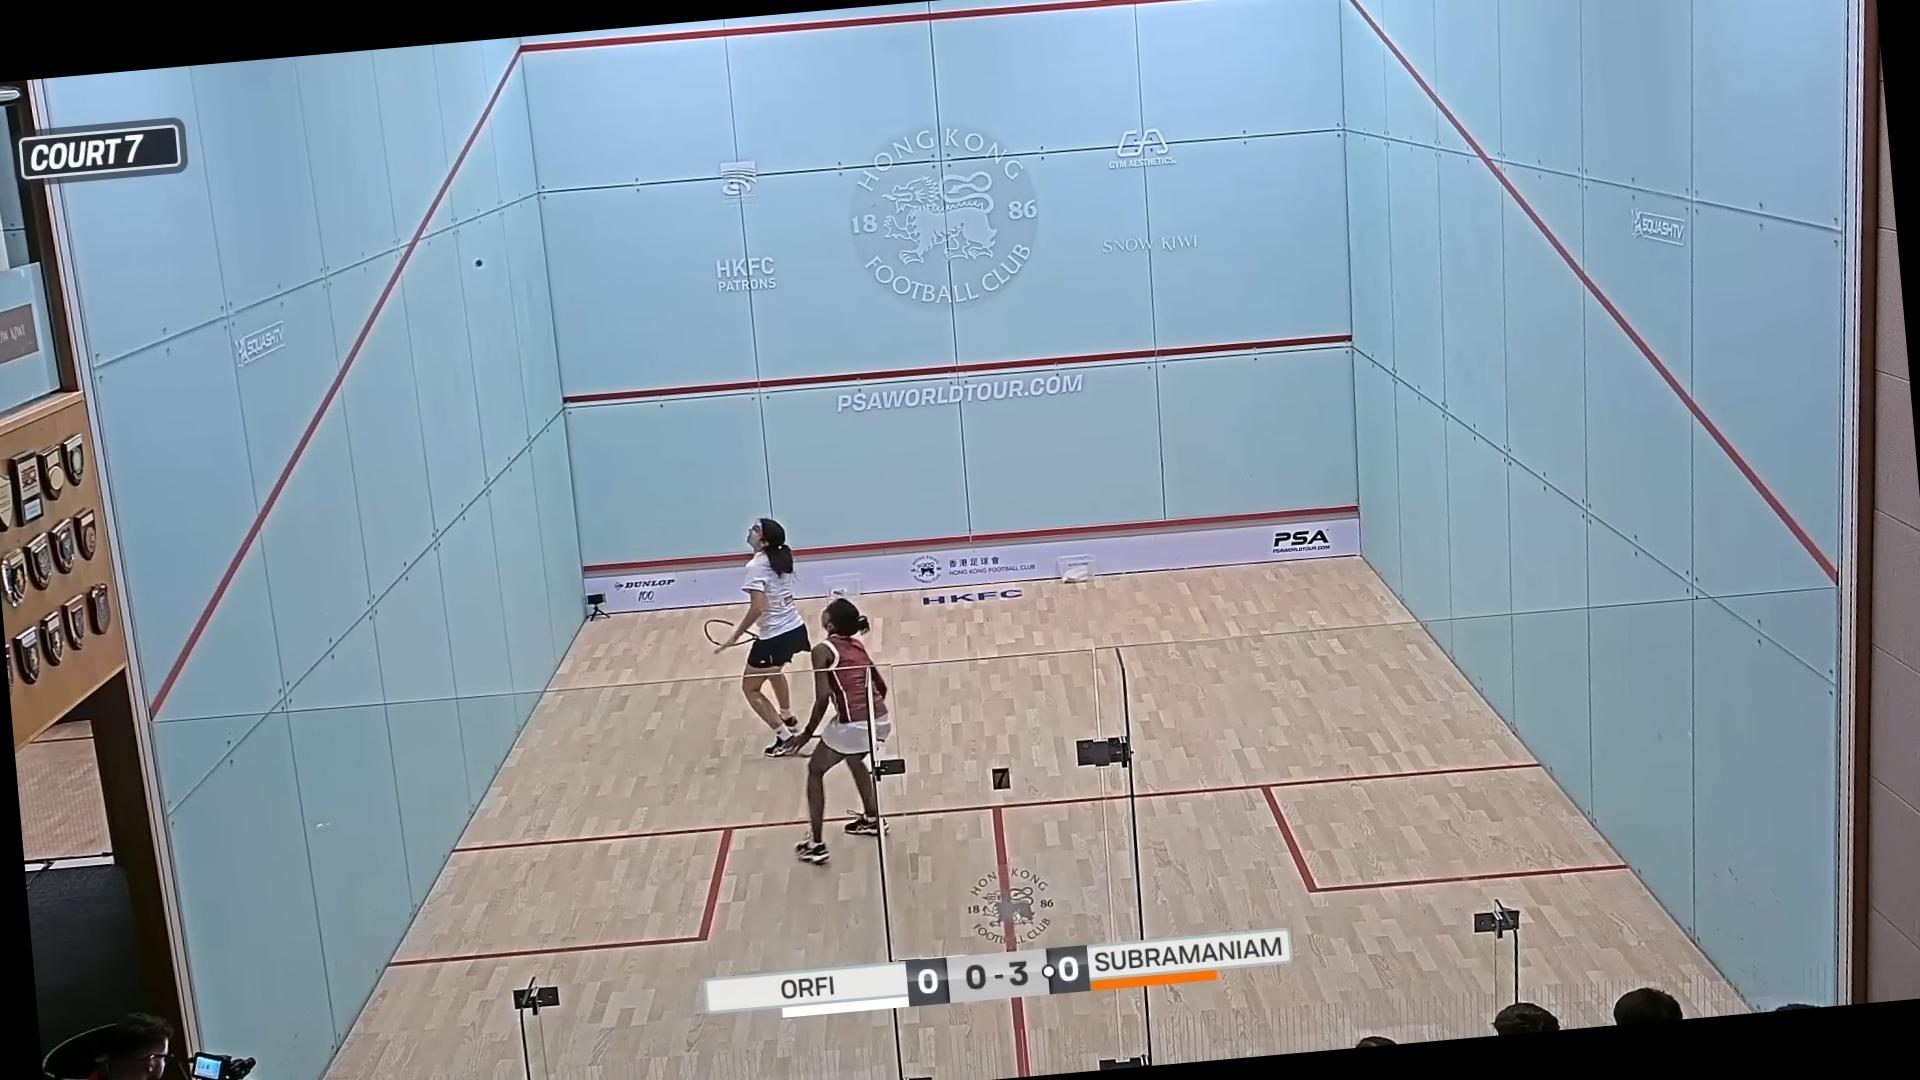Squash-Ball: (465, 249, 495, 282)
